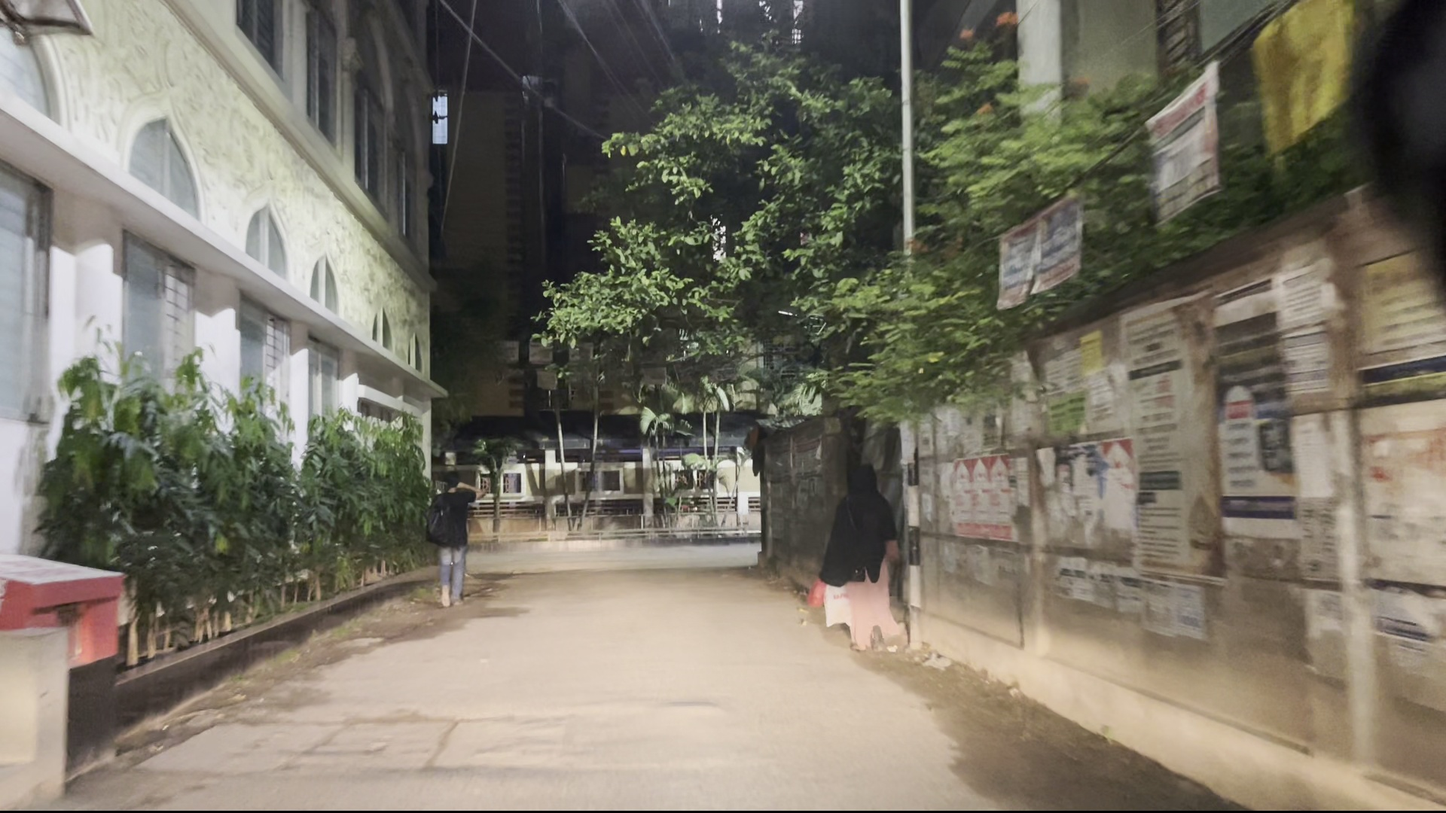person: (822, 455, 911, 665), (424, 469, 476, 607)
